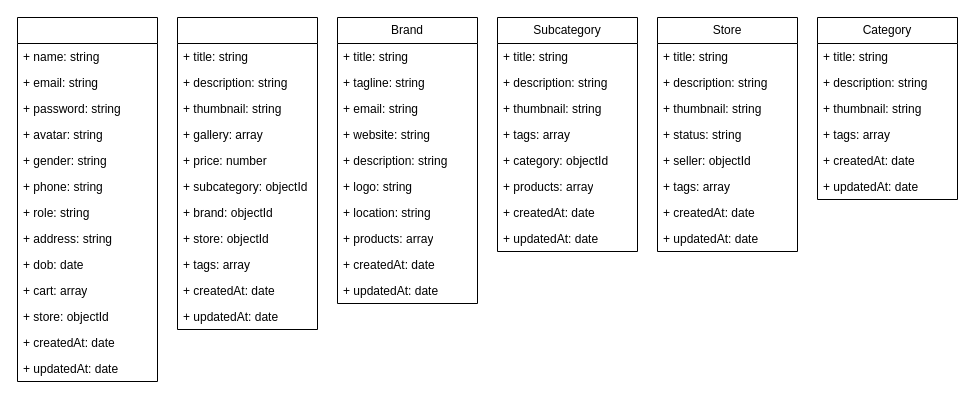
Image size: 975x402. Some labels were removed from this diagram. The box of each missing label's shape, as (x1, y1, x2, y2) in pixels:
Product: (176, 16, 318, 330)
User: (16, 16, 158, 382)
